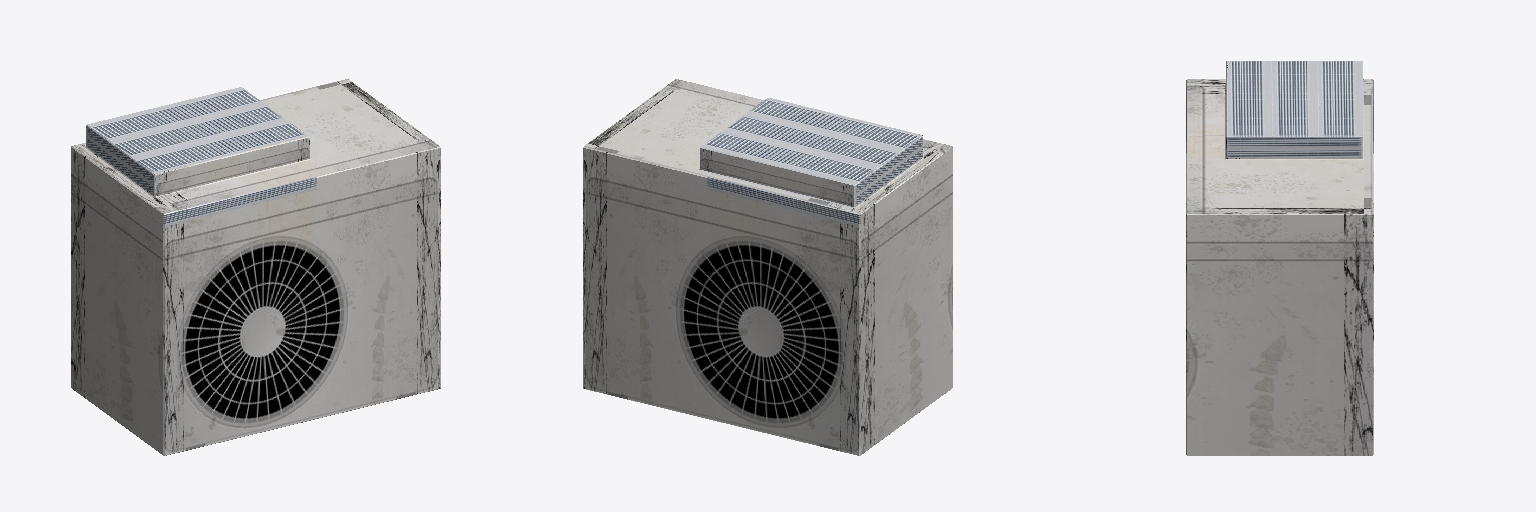
The picture shows the model from 3 angles: view 1: azimuth 30°, elevation 25°; view 2: azimuth 150°, elevation 25°; view 3: azimuth 270°, elevation 25°; orthographic projection.
Parts seen in each view (by area): view 1: ventilator_4; view 2: ventilator_4; view 3: ventilator_4.
Part boxes in pixels (left/top/right/bottom): ventilator_4: left=71, top=79, right=440, bottom=455; ventilator_4: left=583, top=79, right=952, bottom=455; ventilator_4: left=1186, top=61, right=1373, bottom=455.
Bounding box in the file's own units: 0.6 × 0.5475 × 0.35.
Materials: 1 (1 with a texture image).